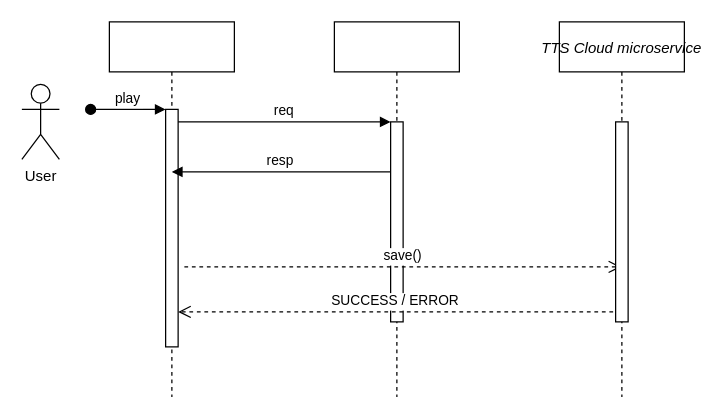
Some shapes in this 724 by 419 pixel diagram are drawn without their labels. Here are the shapes that lost their labels. From the top down, the box of each, then its label:
(108, 21, 234, 397): UI
(333, 21, 459, 397): 3rd party API - ARTICLE PROVIDER
